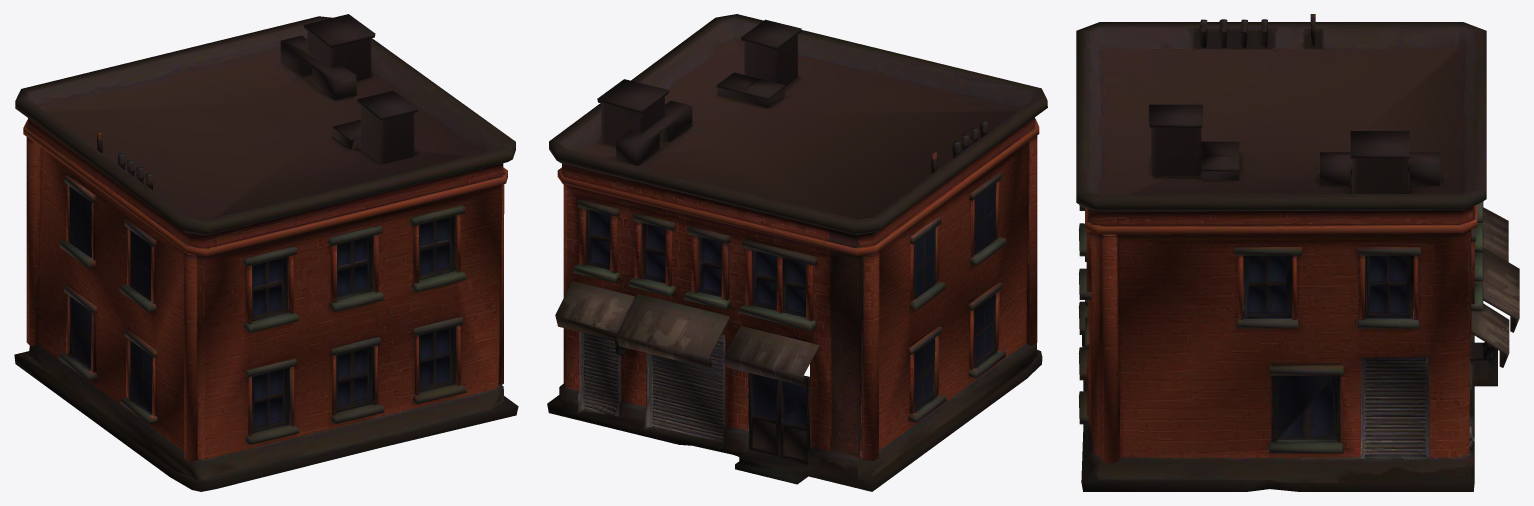
Rendered from pawn_shop.glb.
The picture shows the model from 3 angles, left to right: view 1: azimuth 30°, elevation 25°; view 2: azimuth 150°, elevation 25°; view 3: azimuth 270°, elevation 25°; orthographic projection. The views are drawn at different scales.
Parts seen in each view (by area): view 1: pawn_shop; view 2: pawn_shop; view 3: pawn_shop.
Boxes of the visible parts, bbox=[...] form: pawn_shop: bbox=[14, 14, 518, 491]; pawn_shop: bbox=[547, 14, 1047, 491]; pawn_shop: bbox=[1076, 14, 1519, 491].
Size of the model in its own units: 9.25 by 8 by 9.71.
Materials: 1 (1 with a texture image).
